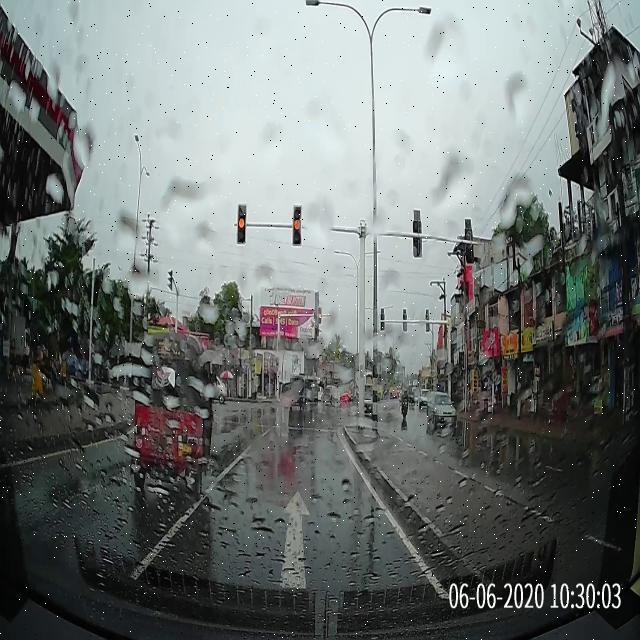forward: (126, 471, 451, 595)
